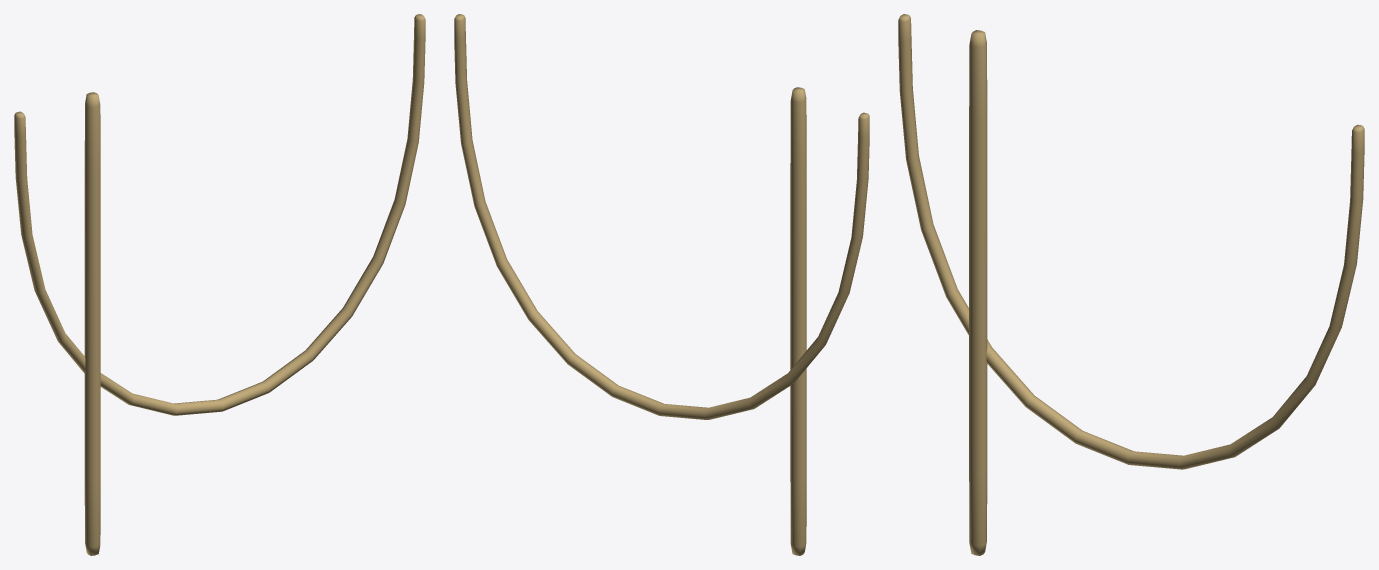
Rendered from Rope_hanging.fbx.
3 renders of one model, left to right at view 1: azimuth 30°, elevation 25°; view 2: azimuth 150°, elevation 25°; view 3: azimuth 330°, elevation 25°, orthographic. The views are drawn at different scales.
Visible parts, largest first — view 1: SM_Prop_Rope_Hanging_01, SM_Prop_Rope_Hanging_01.001; view 2: SM_Prop_Rope_Hanging_01, SM_Prop_Rope_Hanging_01.001; view 3: SM_Prop_Rope_Hanging_01, SM_Prop_Rope_Hanging_01.001.
Part boxes in pixels (box(x1,y1,x2,y2)): SM_Prop_Rope_Hanging_01: box(14, 14, 425, 415); SM_Prop_Rope_Hanging_01.001: box(84, 92, 100, 555); SM_Prop_Rope_Hanging_01: box(454, 14, 869, 419); SM_Prop_Rope_Hanging_01.001: box(790, 87, 806, 555); SM_Prop_Rope_Hanging_01: box(898, 14, 1364, 469); SM_Prop_Rope_Hanging_01.001: box(969, 30, 987, 555).
Size of the model in its own units: 129 by 138 by 6.18.
